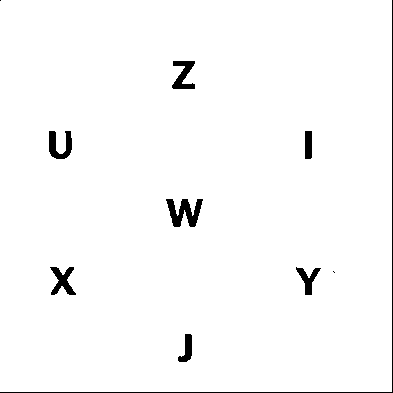I: (299, 126, 320, 169)
U: (43, 127, 76, 164)
